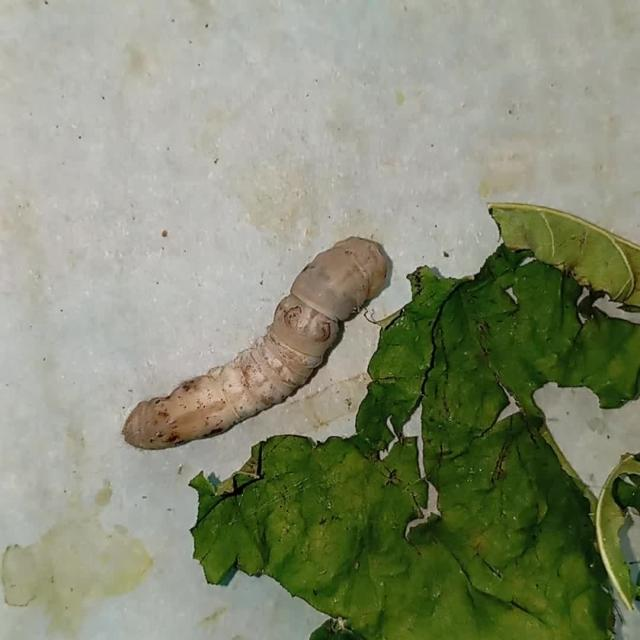Grasserie: (94, 209, 404, 490)
